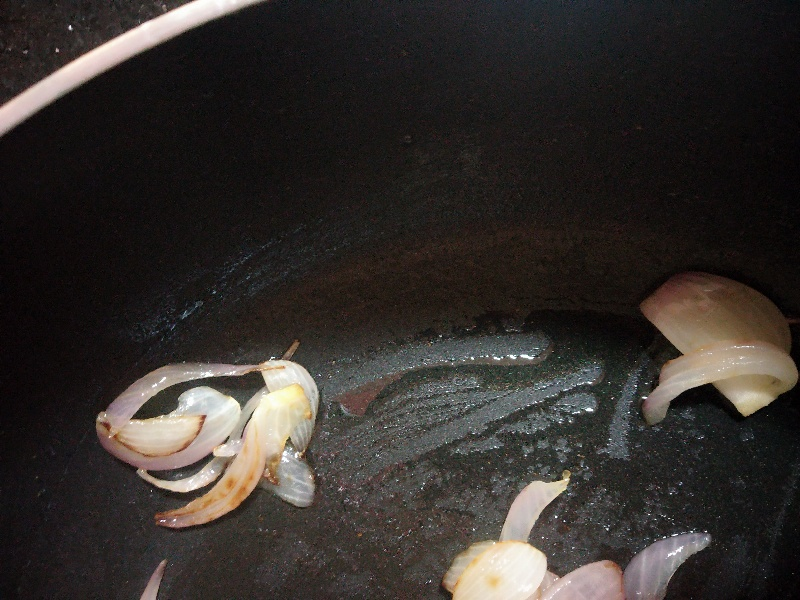onion_burnt: (74, 352, 326, 532)
